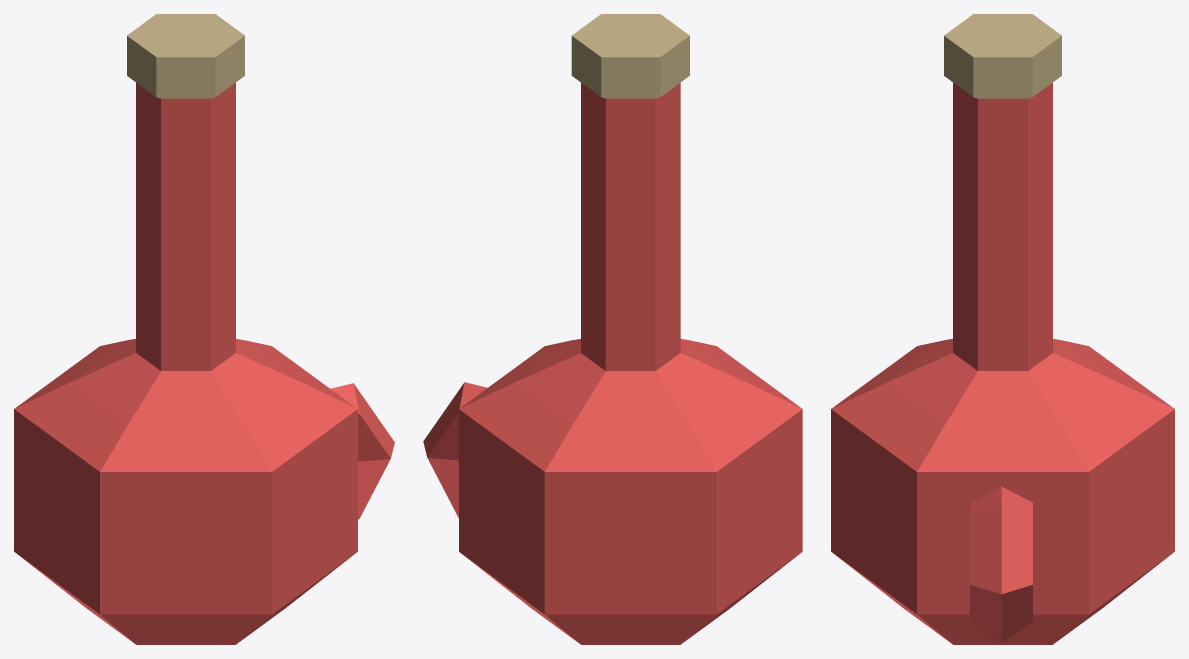
Rendered from LongHandlePotion.020.fbx.
3 views of the same model, side by side, from view 1: azimuth 30°, elevation 25°; view 2: azimuth 150°, elevation 25°; view 3: azimuth 270°, elevation 25° (orthographic).
Parts seen in each view (by area): view 1: LongHandlePotion.020; view 2: LongHandlePotion.020; view 3: LongHandlePotion.020.
Boxes of the visible parts, x1,y1,x2,y2 form: LongHandlePotion.020: [14, 14, 394, 644]; LongHandlePotion.020: [423, 14, 802, 644]; LongHandlePotion.020: [831, 14, 1174, 644].
Bounding box in the file's own units: 14.38 × 23.35 × 12.7.
